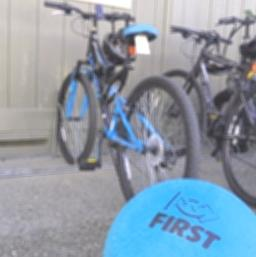algae: (102, 178, 256, 257)
